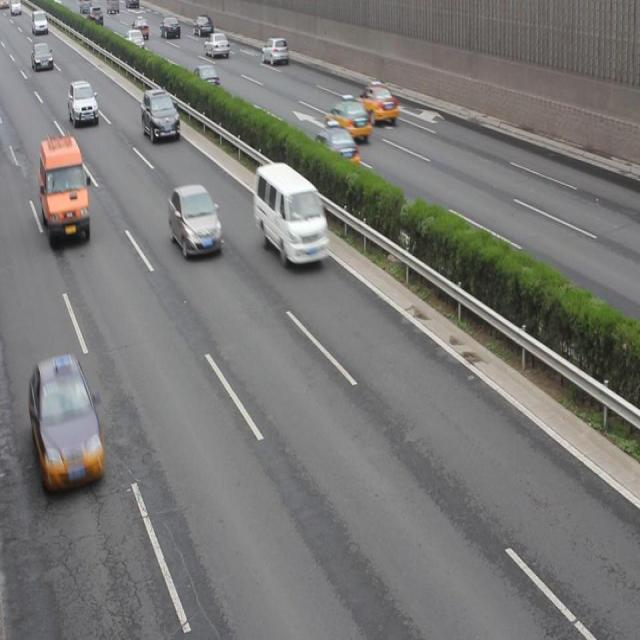car: (31, 358, 104, 494), (168, 184, 221, 258), (311, 122, 360, 168), (326, 94, 371, 142), (142, 89, 180, 140), (356, 80, 398, 124), (68, 80, 99, 125), (261, 37, 288, 65), (191, 66, 220, 92), (205, 32, 227, 58), (32, 44, 53, 69), (160, 17, 180, 40), (124, 29, 144, 50), (194, 14, 212, 37), (133, 17, 149, 40)
truck: (253, 161, 328, 266), (41, 134, 89, 242)
